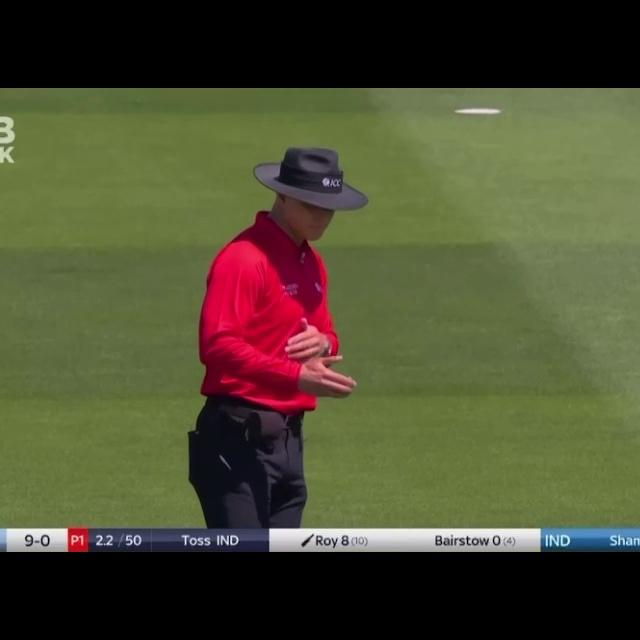umpire: (179, 139, 387, 530)
